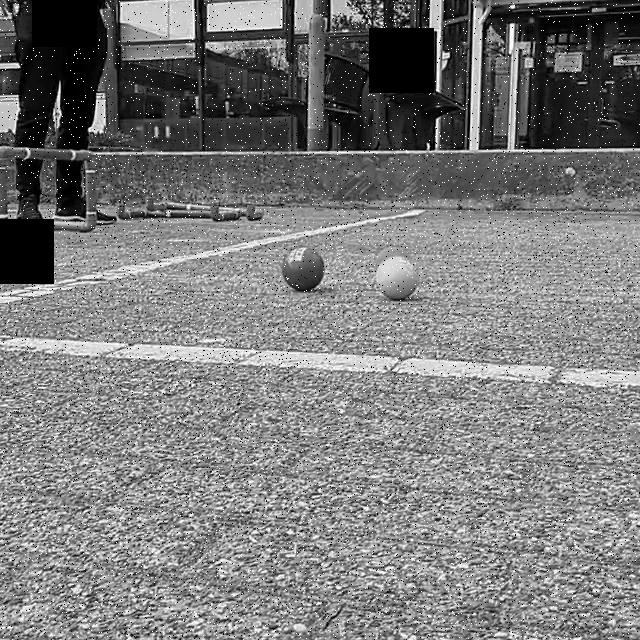ball: (372, 254, 422, 305), (278, 244, 326, 292)
